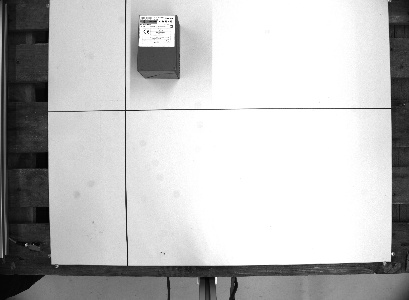b4: (133, 13, 182, 79)
